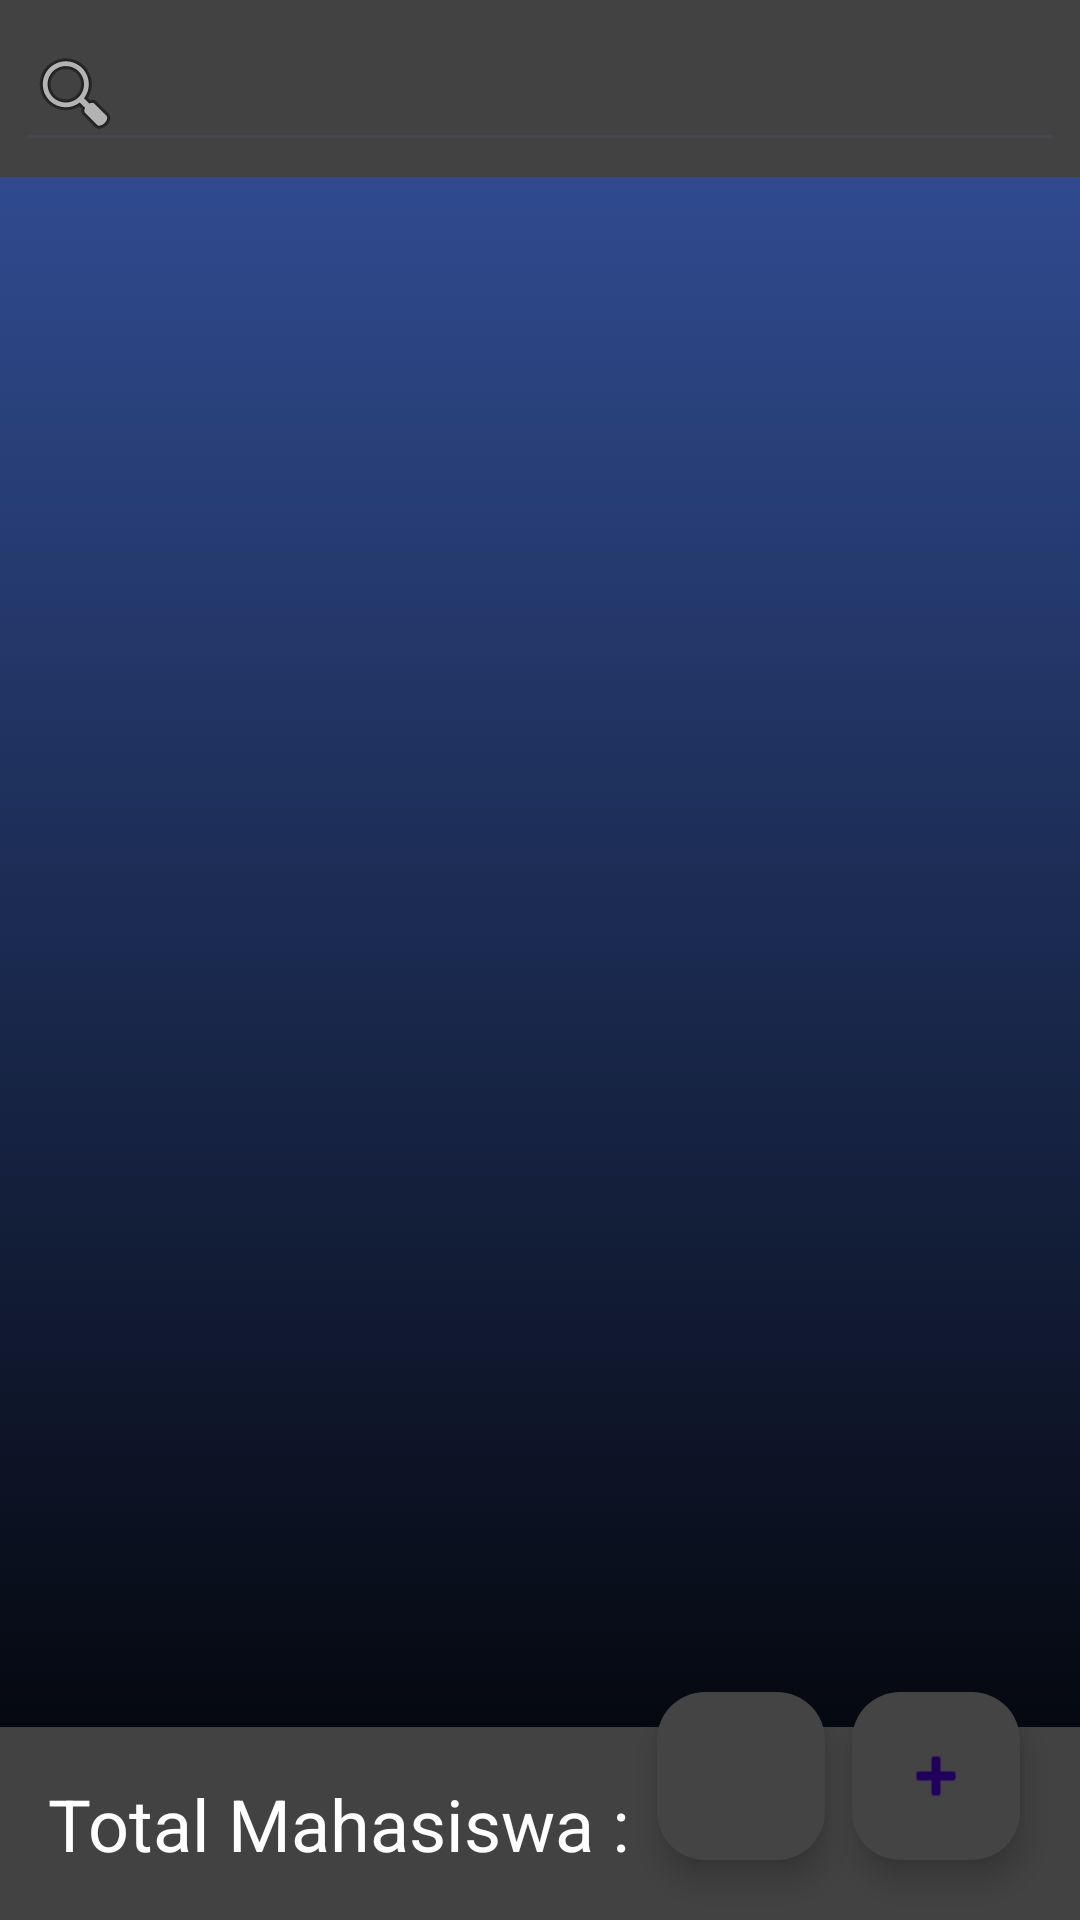

Named icons in this screenshot (1080×1920) and their bounding boxes, bbox=[x1, y1, x2, y2]:
Record baru: bbox=[852, 1692, 1020, 1795]
